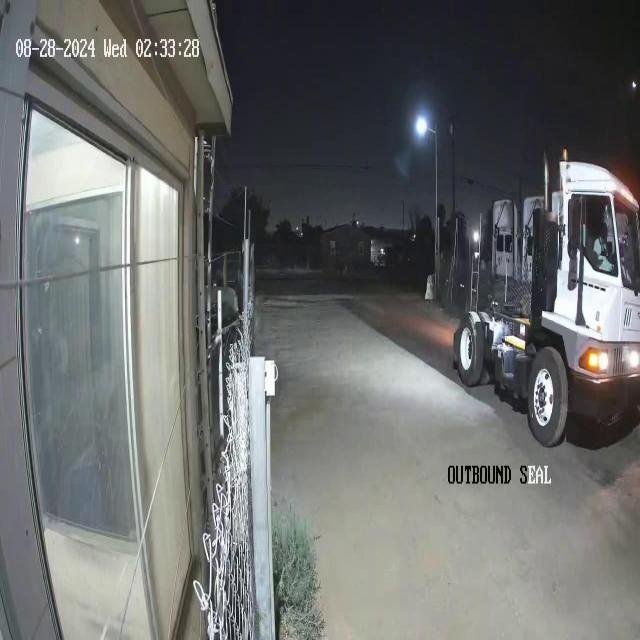TRUCK_IN: (452, 147, 639, 448)
